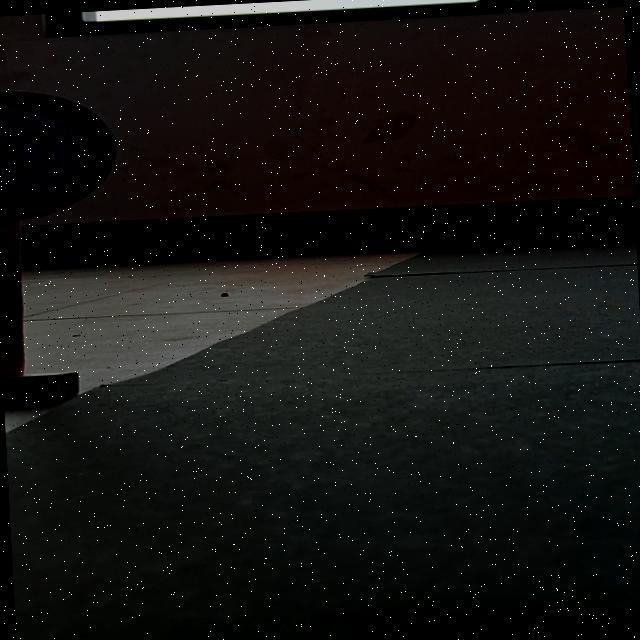Speed20: (0, 68, 137, 233)
